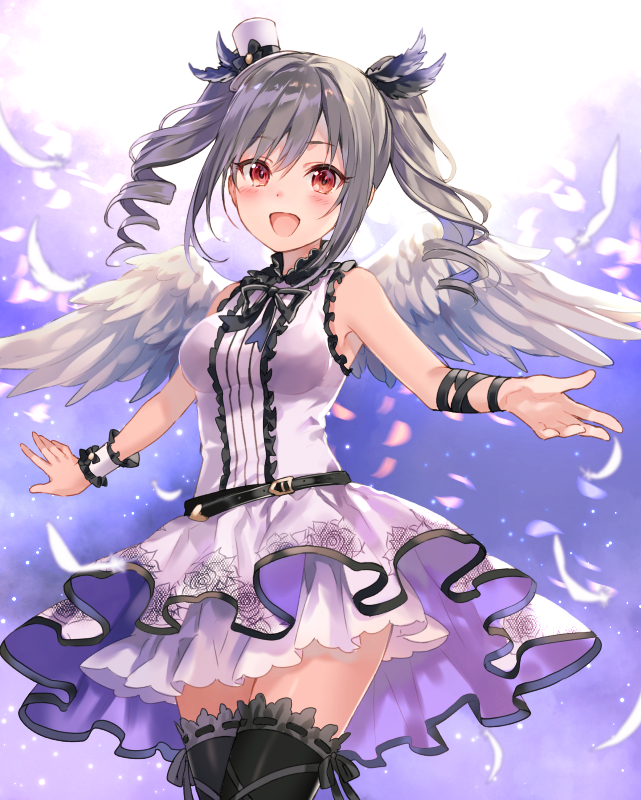纸片人正脸: (189, 28, 433, 268)
